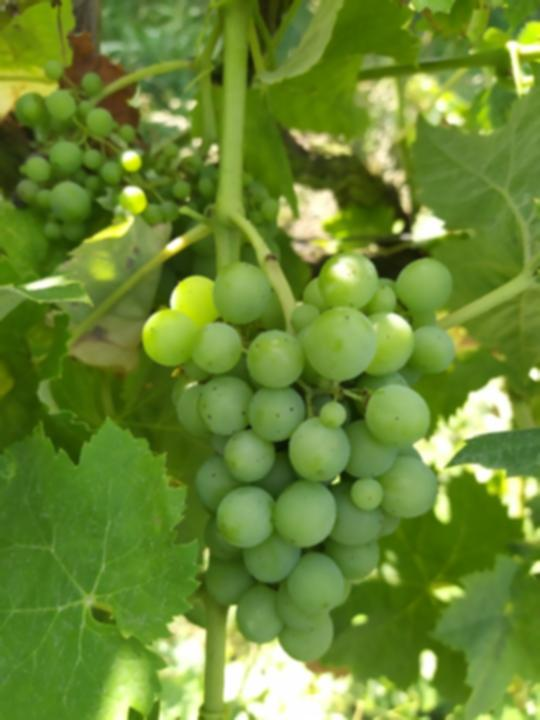grape: (140, 251, 457, 662)
